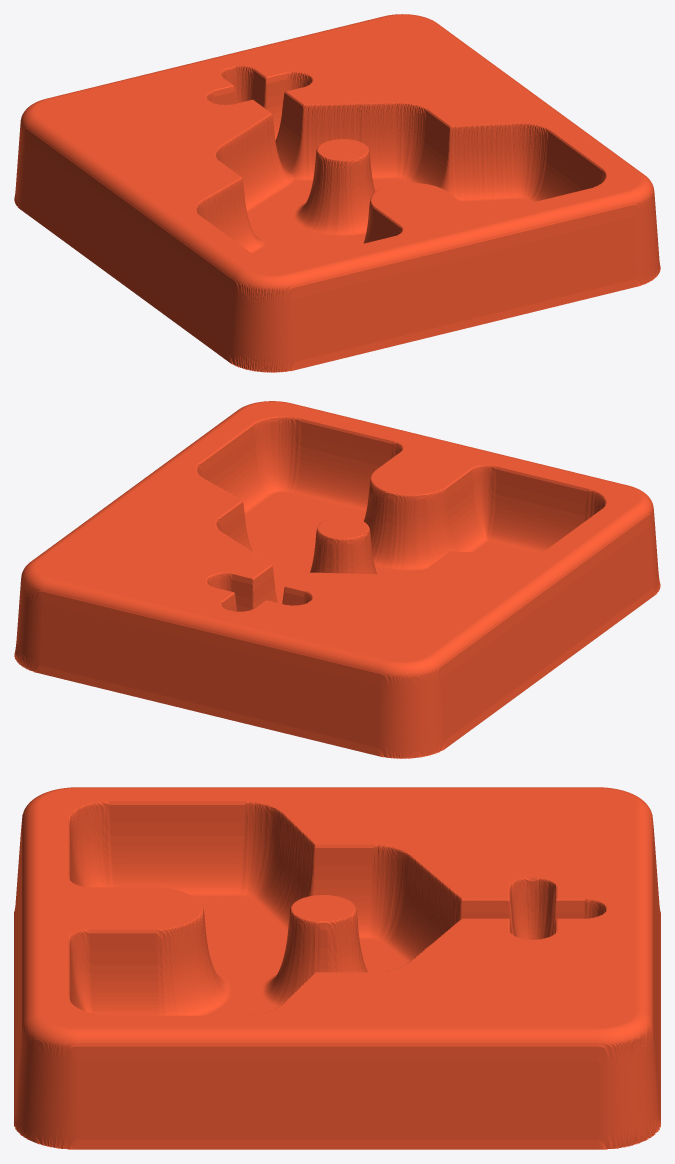
Rendered from mold.glb.
3 renders of one model, top to bottom at view 1: azimuth 30°, elevation 25°; view 2: azimuth 150°, elevation 25°; view 3: azimuth 270°, elevation 25°, orthographic. The views are drawn at different scales.
Visible parts, largest first — view 1: geometry_0; view 2: geometry_0; view 3: geometry_0.
Boxes of the visible parts, x1,y1,x2,y2 form: geometry_0: (14, 14, 660, 372); geometry_0: (14, 401, 660, 758); geometry_0: (14, 787, 660, 1149).
Bounding box in the file's own units: 0.088 × 0.0175 × 0.0924.
